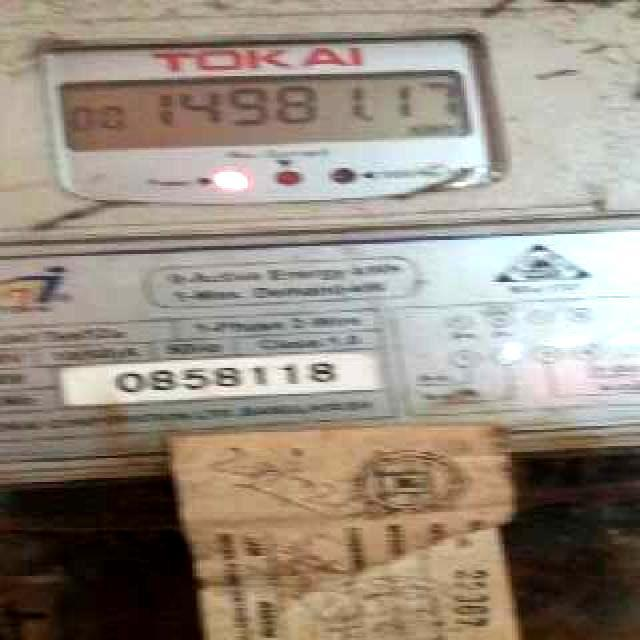LCD: (55, 70, 484, 155)
